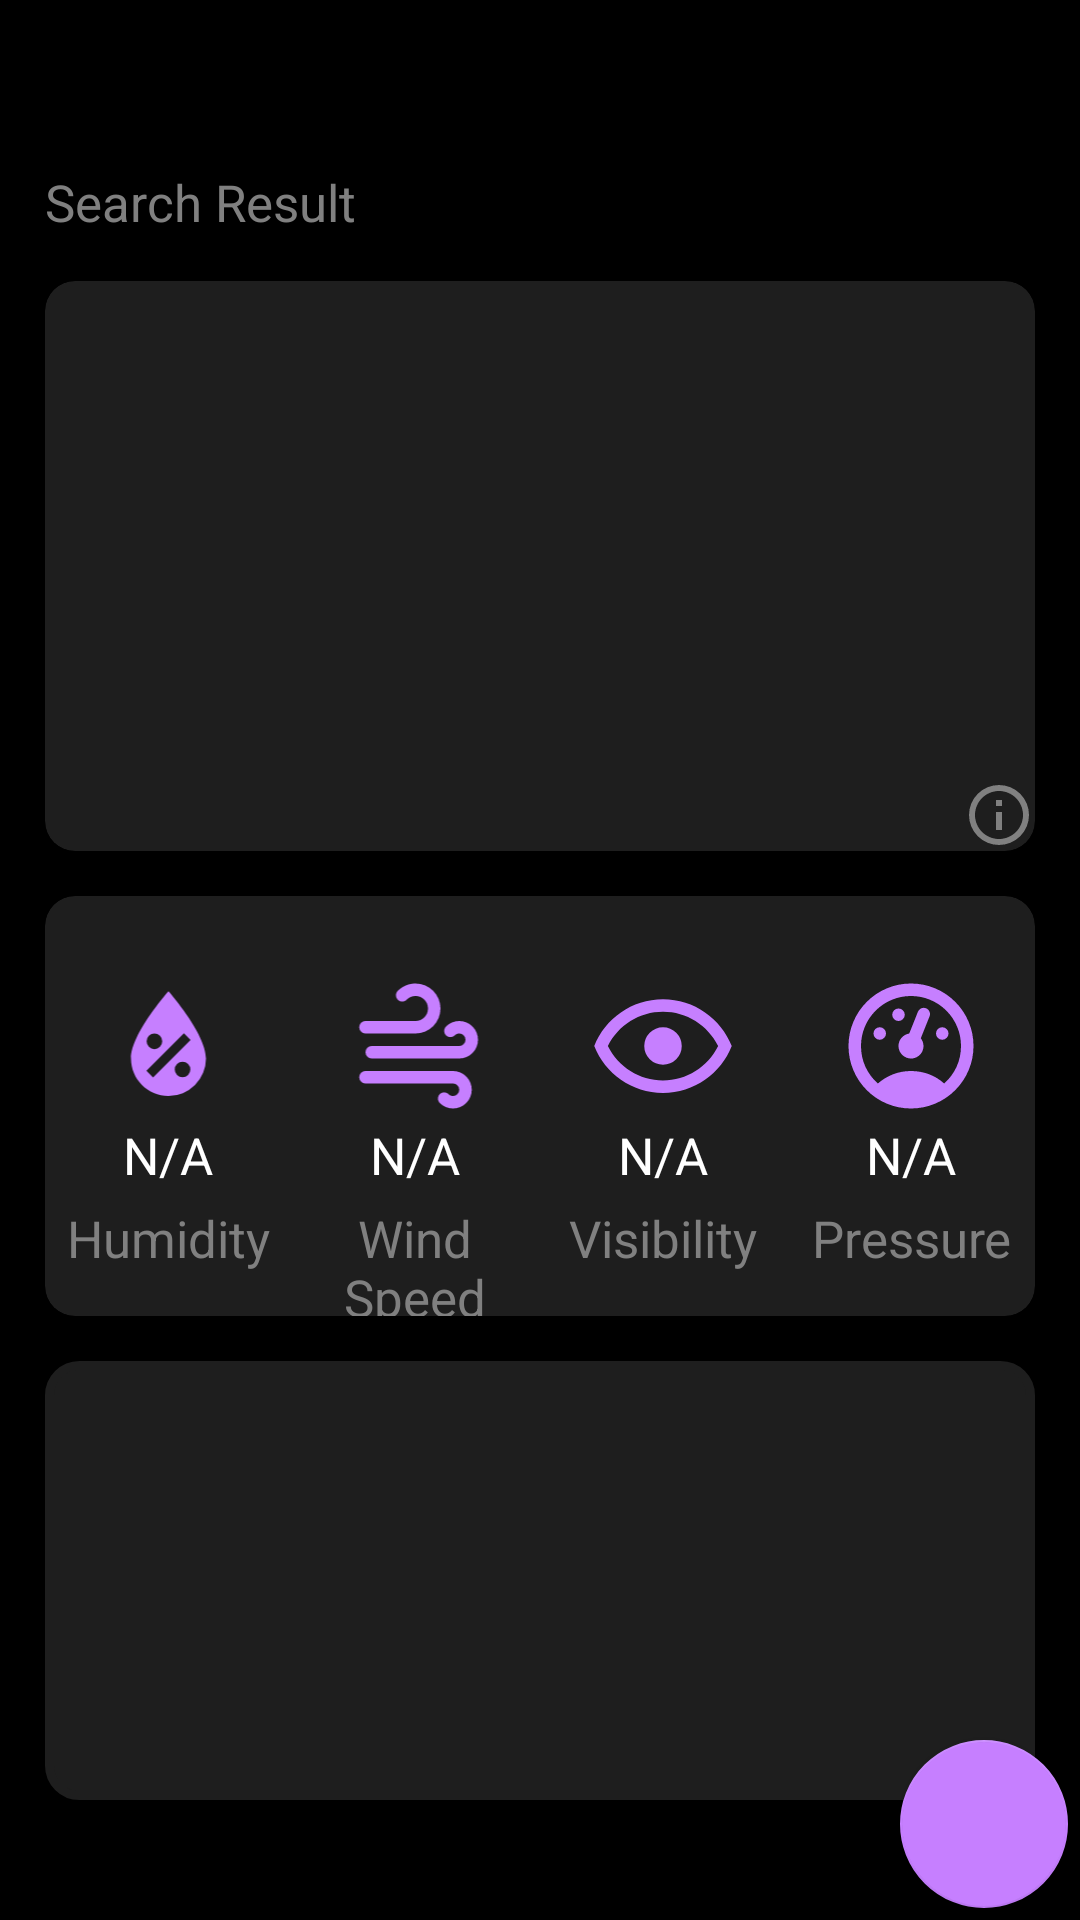

Icons on this 1080px×1920px Android screen, each with the point to tap as (x,y):
moreinfo: (999,815)
